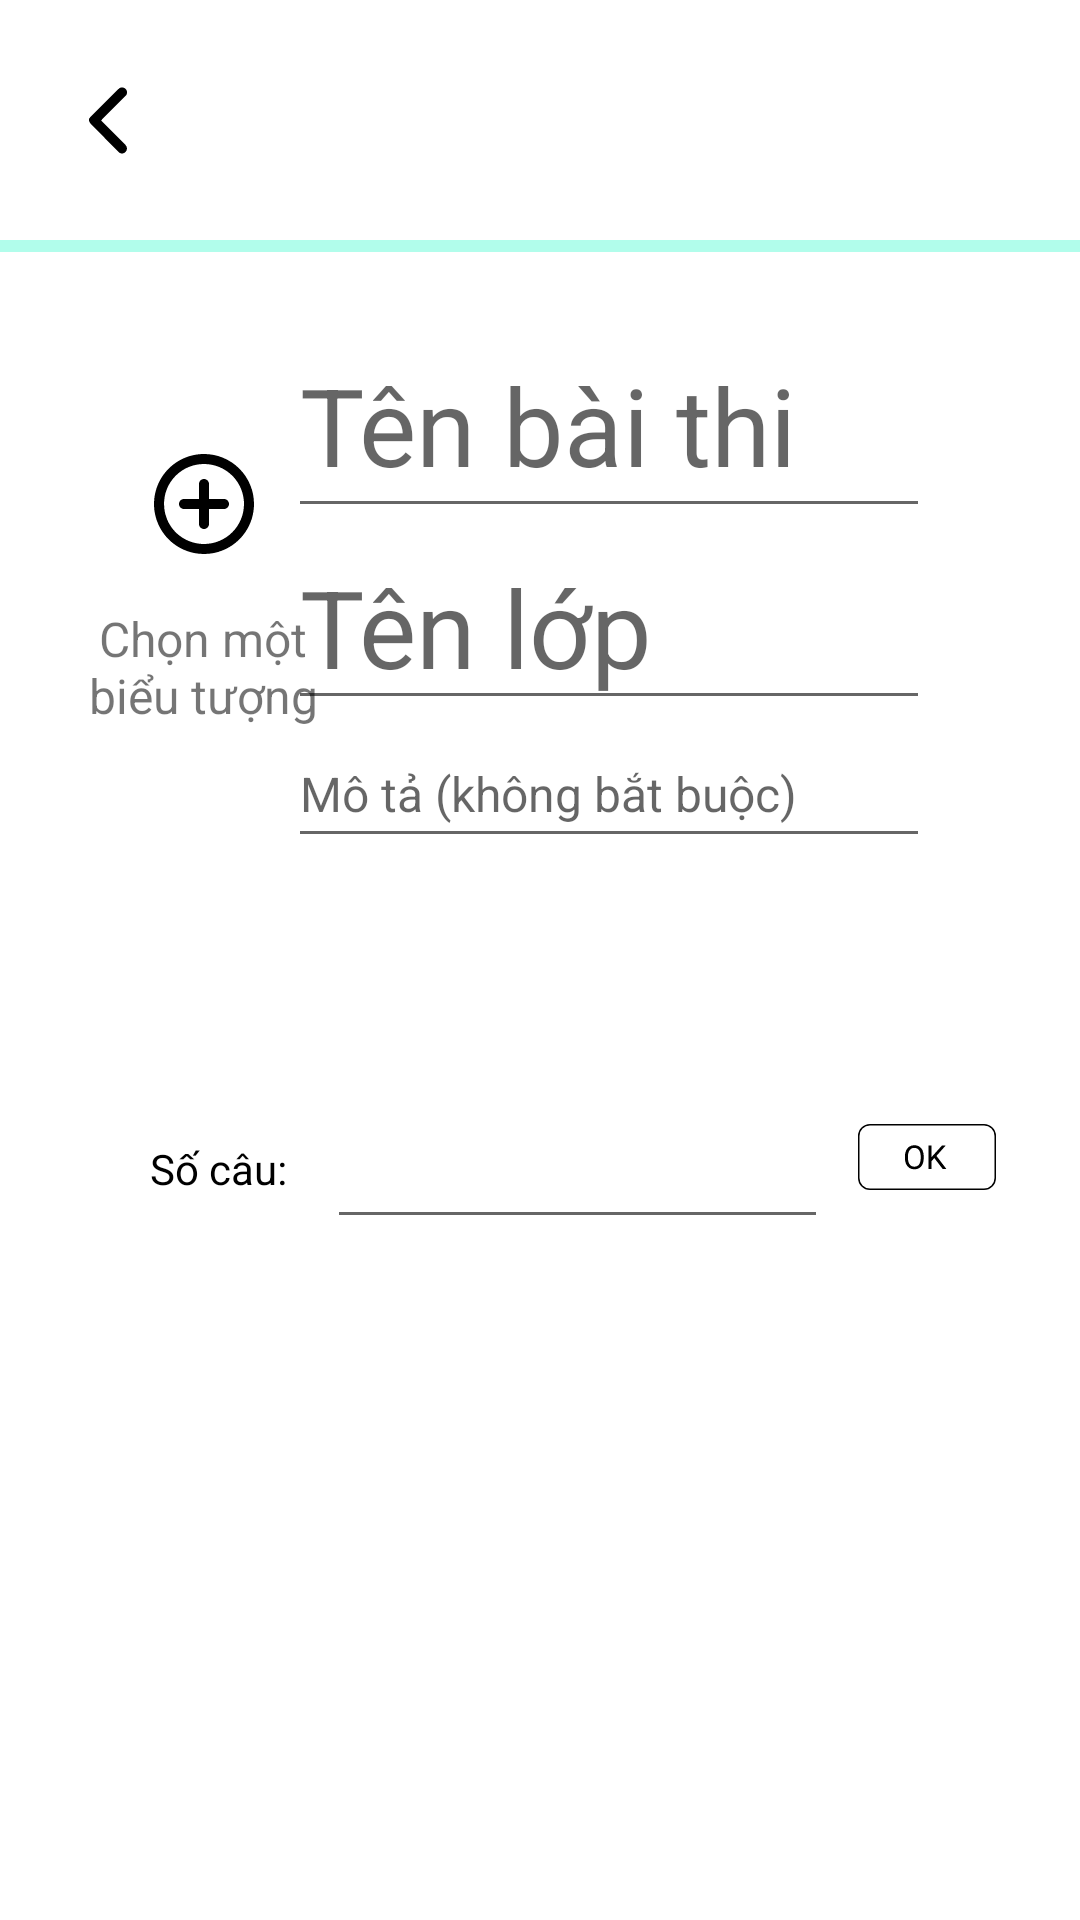

Icon bounding boxes for this 1080x1920 phone screenshot, format [x1, y1, x2, y2]:
back: [89, 87, 127, 154]
newimage: [154, 454, 254, 554]
